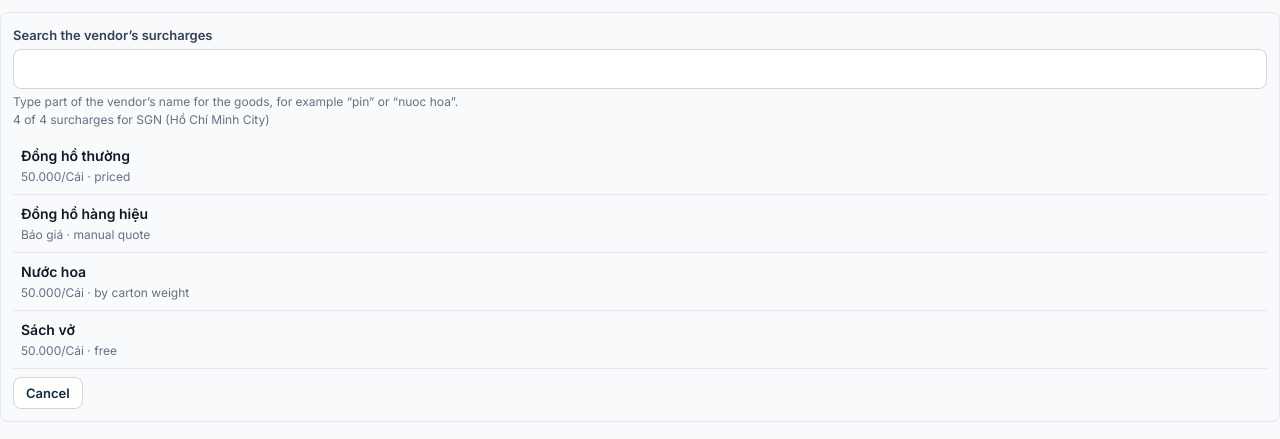
it: FeePicker › shows the vendor price field for a manual-quote rule, not for a priced one
What coordinates should you click on to do the following:
click the button "Đồng hồ thường 50.000/Cái · priced"
I would click on:
 (75, 156)
Its box is [13,137,1267,195].
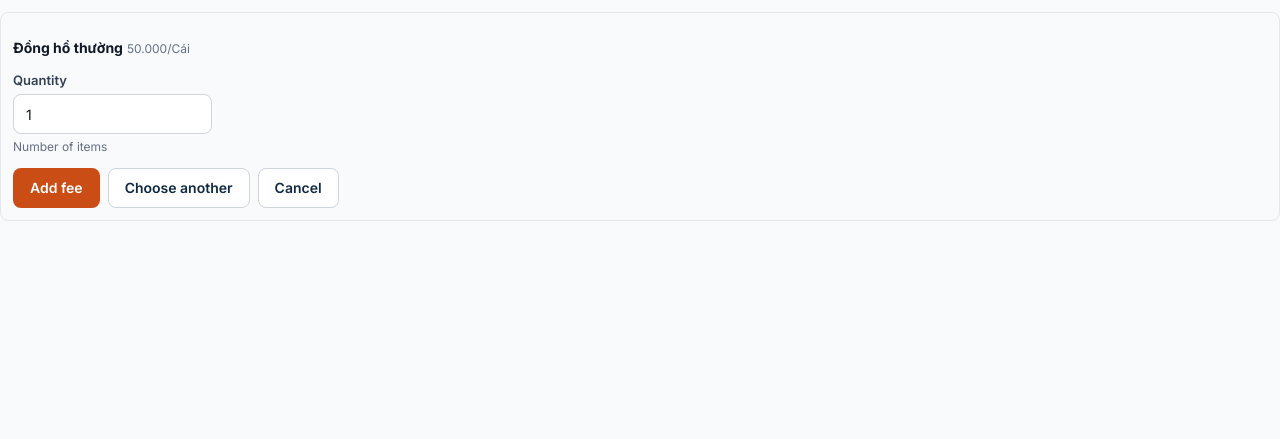
Expected: the field labelled "Vendor’s price" is not shown
What coordinates should you click on to do the following:
click the button "Choose another"
I would click on:
 (179, 188)
Its box is [108,168,250,208].
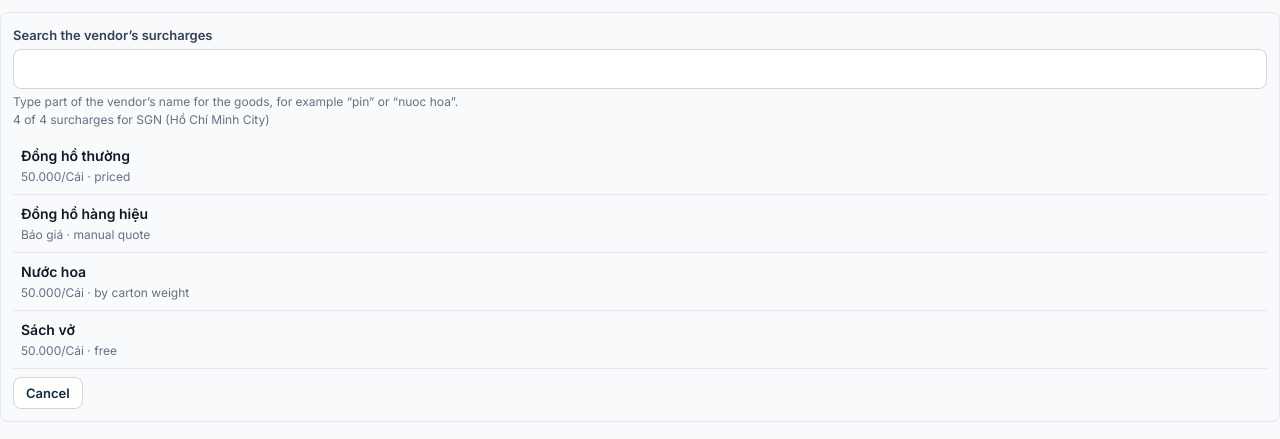
What coordinates should you click on to do the following:
click the button "Đồng hồ hàng hiệu Báo giá · manual quote"
I would click on:
 (85, 214)
Its box is [13,195,1267,253].
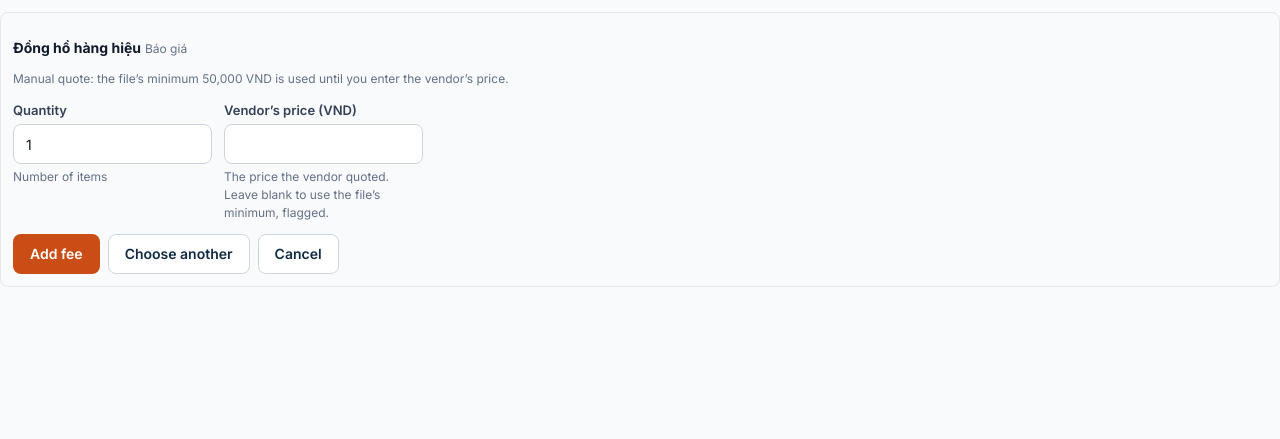
Expected: the field labelled "Vendor’s price (VND)" is shown, [224,124,423,164]
Expected: the text "Manual quote: the file’s minimum 50,000 VND" is shown, [13,71,509,86]
